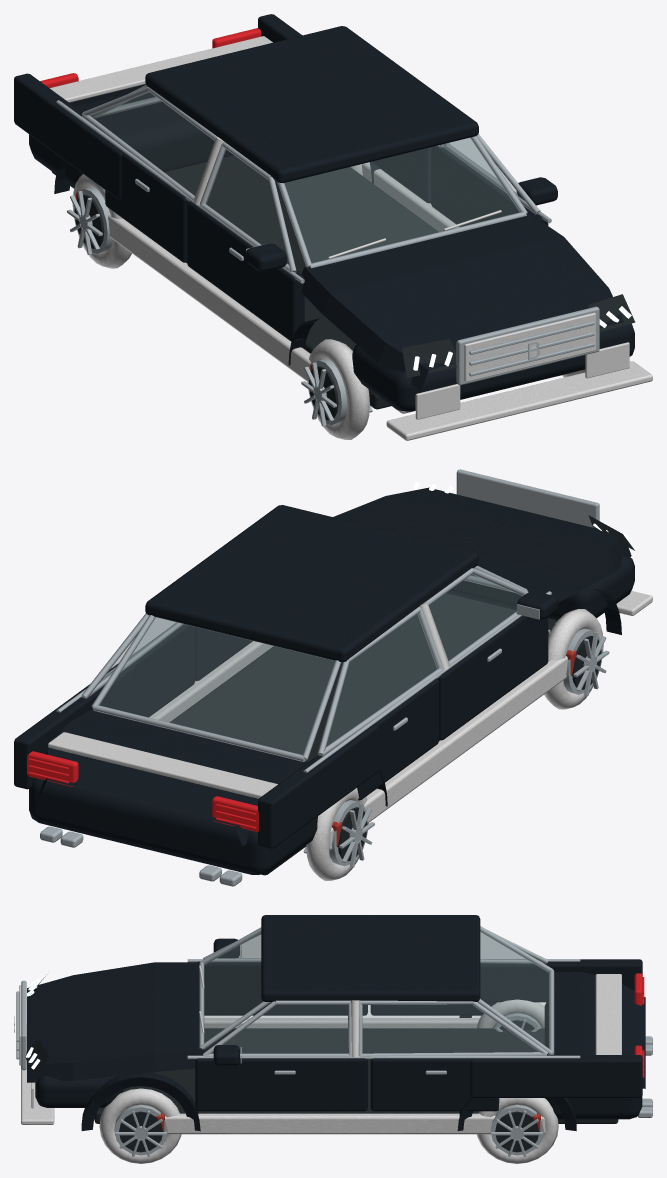
File: brabus-s65-lod.glb
The picture shows the model from 3 angles, top to bottom: view 1: azimuth 30°, elevation 25°; view 2: azimuth 150°, elevation 25°; view 3: azimuth 270°, elevation 25°; orthographic projection. The views are drawn at different scales.
Visible parts, largest first — view 1: military_paint_batch, armoured_glass_batch, rubber_batch (×3), cabin_trim_batch, brightwork_batch (×3), tail_lamp_batch; view 2: military_paint_batch, armoured_glass_batch, cabin_trim_batch, brightwork_batch (×3), rubber_batch (×3), tail_lamp_batch; view 3: military_paint_batch, armoured_glass_batch, rubber_batch (×4), brightwork_batch (×3), cabin_trim_batch (×3), tail_lamp_batch.
Part boxes in pixels (x1,y1,x2,y2): military_paint_batch: (14, 14, 634, 411); armoured_glass_batch: (90, 92, 525, 264); rubber_batch (×3): (50, 36, 652, 440); cabin_trim_batch: (51, 155, 635, 409); brightwork_batch (×3): (56, 85, 599, 426); tail_lamp_batch: (40, 28, 261, 88); military_paint_batch: (14, 487, 634, 874); armoured_glass_batch: (99, 574, 522, 754); cabin_trim_batch: (170, 515, 634, 875); brightwork_batch (×3): (40, 469, 609, 886); rubber_batch (×3): (48, 580, 652, 880); tail_lamp_batch: (27, 751, 258, 832); military_paint_batch: (27, 915, 645, 1131); armoured_glass_batch: (204, 930, 549, 1053); rubber_batch (×4): (19, 965, 621, 1163); brightwork_batch (×3): (16, 926, 652, 1156); cabin_trim_batch (×3): (25, 976, 618, 1152); tail_lamp_batch: (634, 973, 644, 1077).
Bounding box in the file's own units: 2.34 × 1.53 × 5.37.
9 materials, 2 textured.
